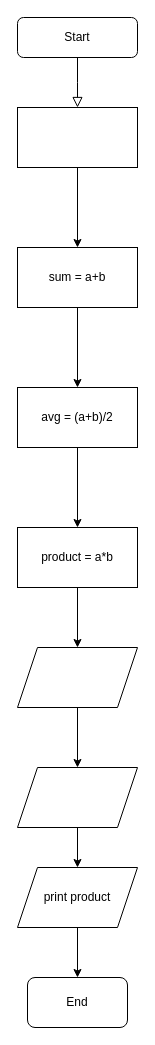
The diagram is 155 pixels wide and 1045 high, and some of its shapes have lost their labels. Each missing label, with the centre of its shape:
input a,b: the point at 77,137
print avg: the point at 77,797
print sum: the point at 77,677
